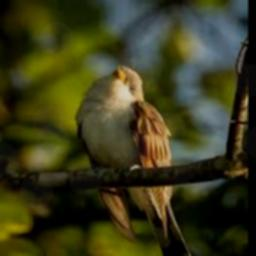Cuckoo: (77, 66, 201, 256)
